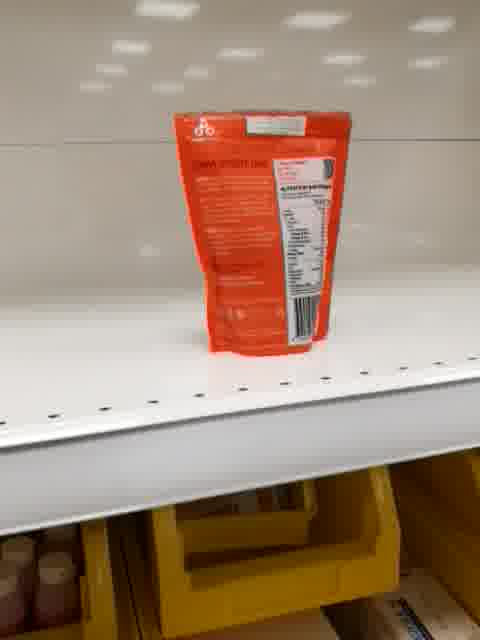whitechia: (171, 108, 355, 360)
